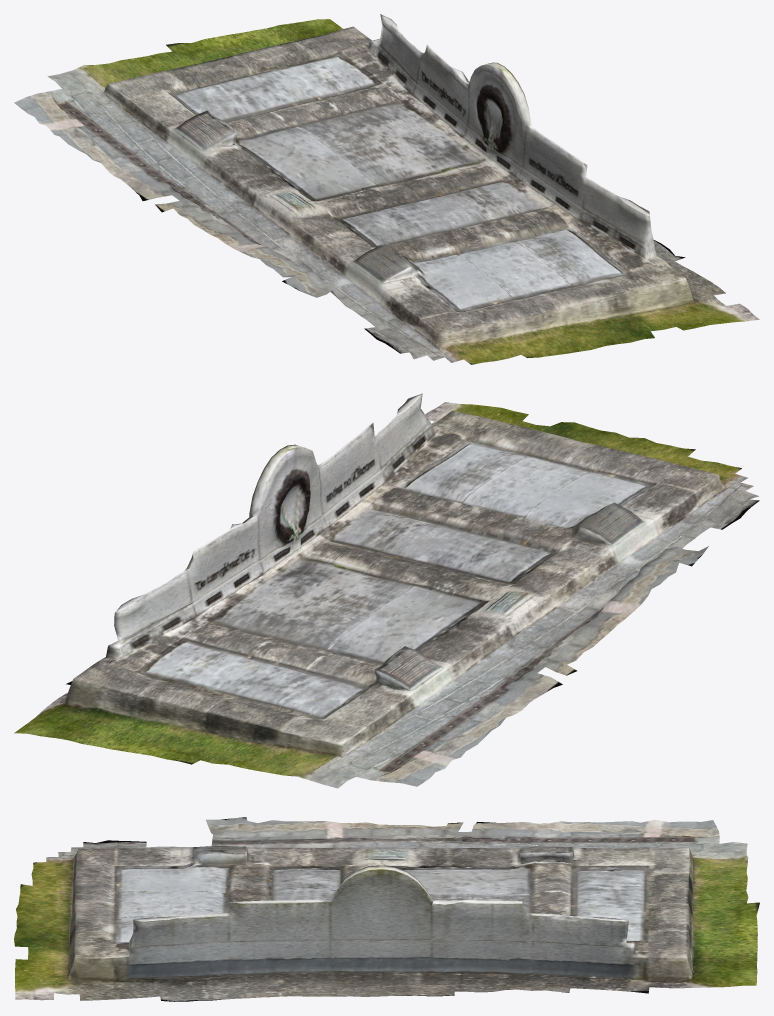
The model's file is ondramodelhigh.obj.
3 views of the same model, one above another, from view 1: azimuth 30°, elevation 25°; view 2: azimuth 150°, elevation 25°; view 3: azimuth 270°, elevation 25° (orthographic). The views are drawn at different scales.
Parts seen in each view (by area): view 1: instantmeshondra; view 2: instantmeshondra; view 3: instantmeshondra.
Boxes of the visible parts, x1,y1,x2,y2 form: instantmeshondra: (14,14,759,364); instantmeshondra: (14,393,759,788); instantmeshondra: (14,817,759,1001).
Size of the model in its own units: 4.52 by 1.4 by 8.76.
1 material, 1 textured.
